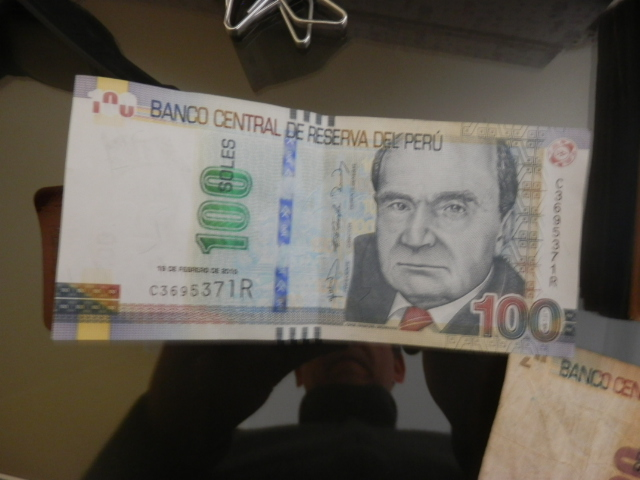B100: (64, 76, 582, 361)
